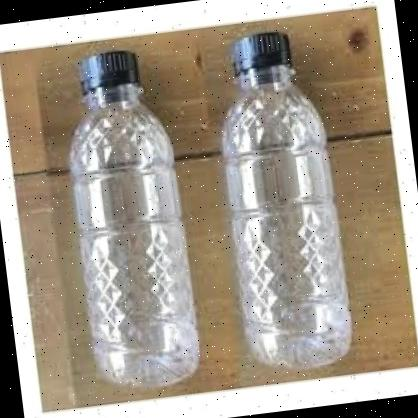bottle: (188, 22, 368, 386), (49, 42, 198, 403)
cap: (71, 48, 144, 104), (224, 31, 297, 85)
